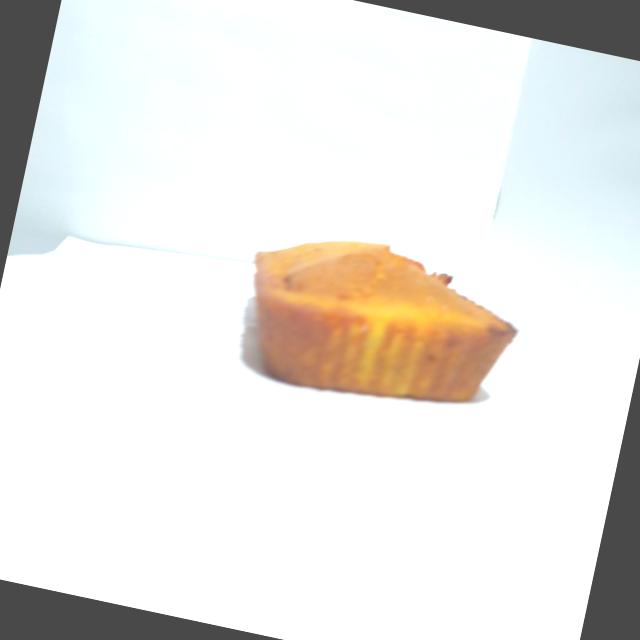Sopa: (210, 200, 535, 436)
